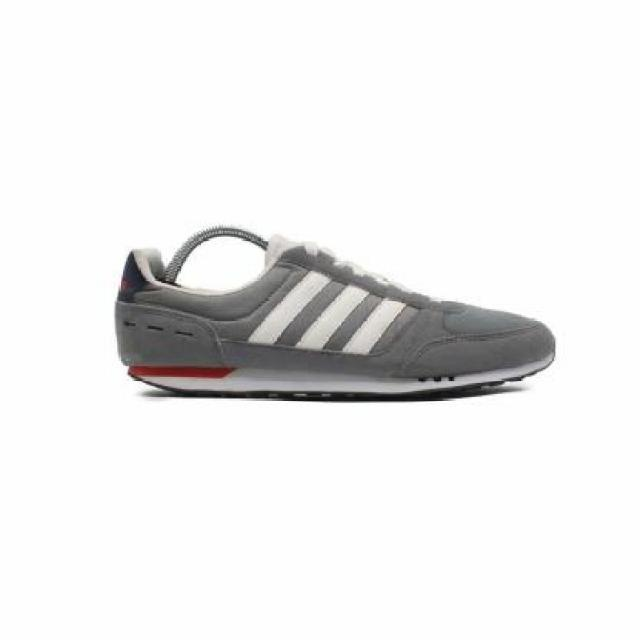Adidas: (241, 259, 408, 366)
